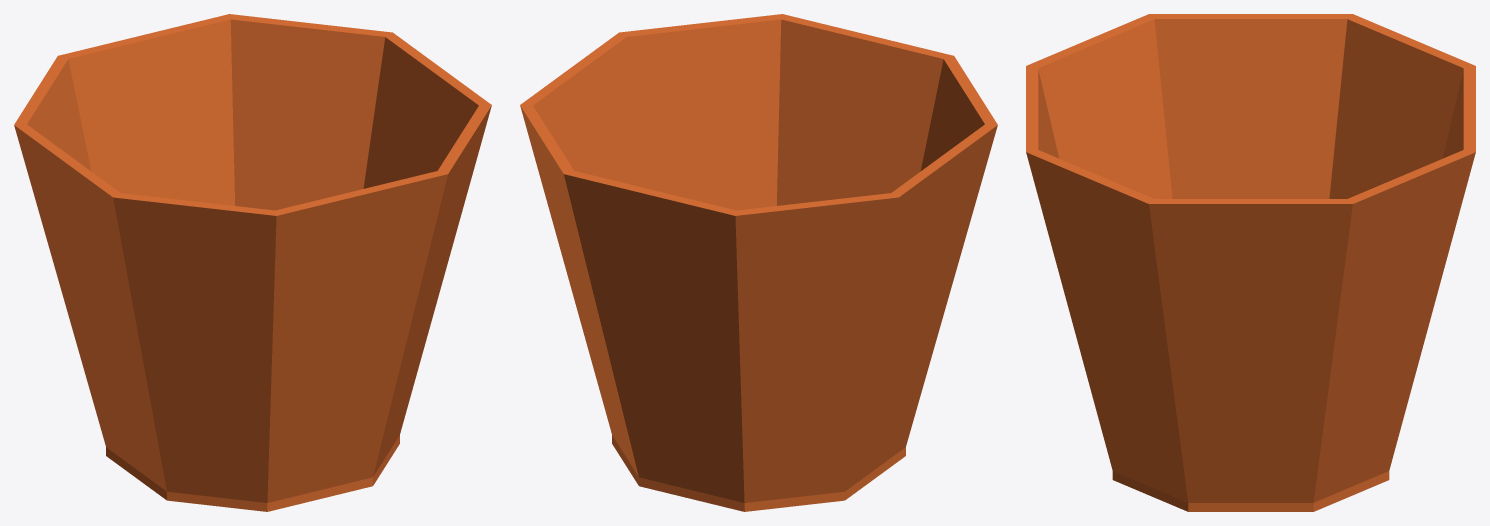
Rendered from Sepet.fbx.
3 renders of one model, left to right at view 1: azimuth 30°, elevation 25°; view 2: azimuth 150°, elevation 25°; view 3: azimuth 270°, elevation 25°, orthographic. The views are drawn at different scales.
Parts seen in each view (by area): view 1: Sepet; view 2: Sepet; view 3: Sepet.
Boxes of the visible parts, box(x1,y1,x2,y2) form: Sepet: box(14, 14, 491, 511); Sepet: box(520, 14, 997, 511); Sepet: box(1026, 14, 1475, 511).
Size of the model in its own units: 95.94 by 81.05 by 95.94.
